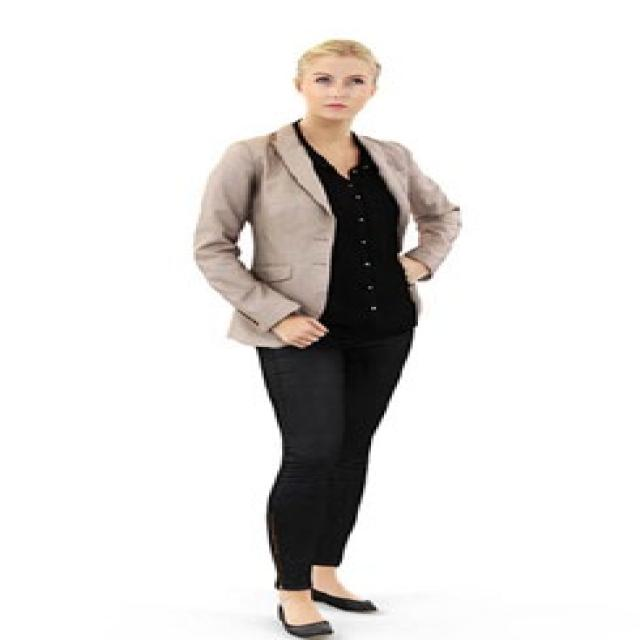standing: (188, 38, 462, 640)
